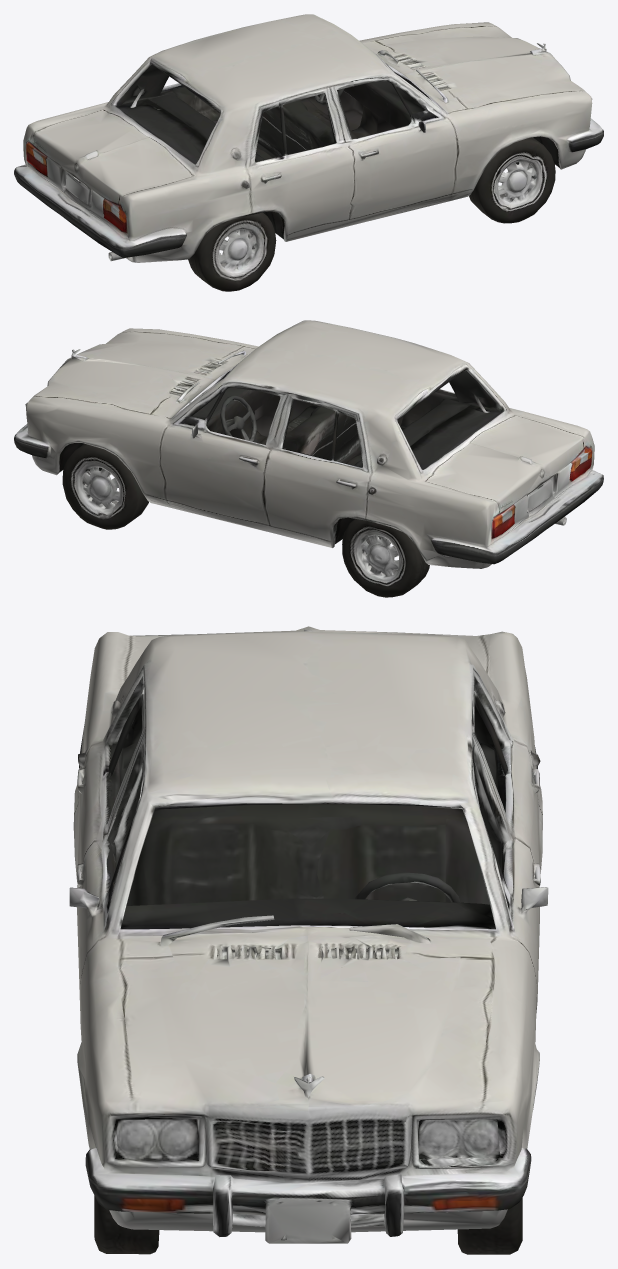
The model's file is car_sedan_white.glb.
3 renders of one model, top to bottom at view 1: azimuth 30°, elevation 25°; view 2: azimuth 150°, elevation 25°; view 3: azimuth 270°, elevation 25°, orthographic. The views are drawn at different scales.
Parts seen in each view (by area): view 1: tripo_node_d208a555-0175-492c-91d9-68d71712c147; view 2: tripo_node_d208a555-0175-492c-91d9-68d71712c147; view 3: tripo_node_d208a555-0175-492c-91d9-68d71712c147.
Boxes of the visible parts, <box> form: tripo_node_d208a555-0175-492c-91d9-68d71712c147: <box>14,14,603,291</box>; tripo_node_d208a555-0175-492c-91d9-68d71712c147: <box>14,320,603,597</box>; tripo_node_d208a555-0175-492c-91d9-68d71712c147: <box>69,626,548,1254</box>.
Bounding box in the file's own units: 1 × 0.3425 × 0.415.
Materials: 1 (1 with a texture image).
